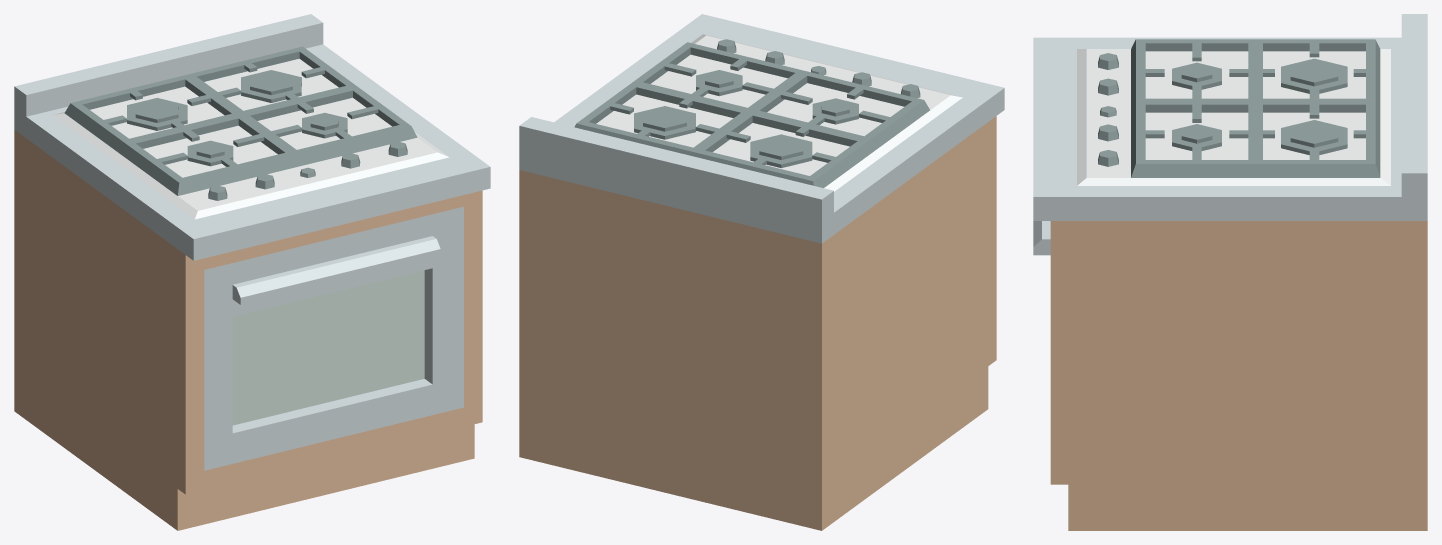
File: kitchenStove.glb
3 renders of one model, left to right at view 1: azimuth 30°, elevation 25°; view 2: azimuth 150°, elevation 25°; view 3: azimuth 270°, elevation 25°, orthographic. The views are drawn at different scales.
Visible parts, largest first — view 1: kitchenStove; view 2: kitchenStove; view 3: kitchenStove.
Boxes of the visible parts, x1,y1,x2,y2 form: kitchenStove: [14, 14, 490, 530]; kitchenStove: [519, 14, 1004, 530]; kitchenStove: [1033, 14, 1427, 530].
Size of the model in its own units: 0.4301 by 0.45 by 0.45.
